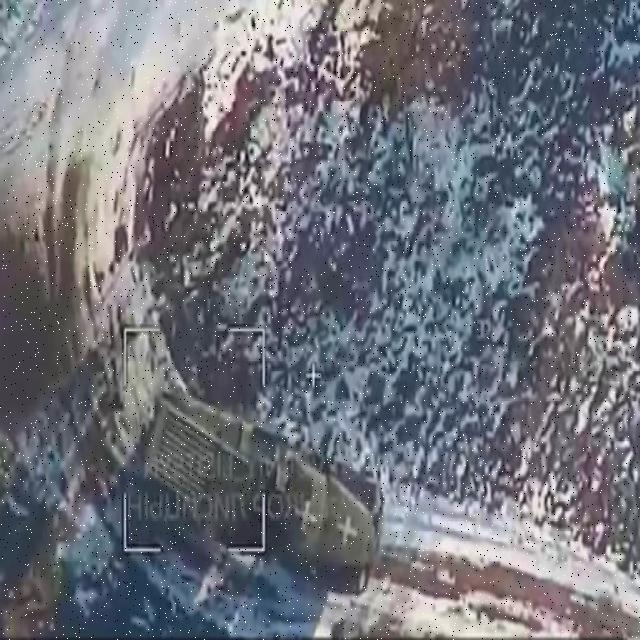MLRS: (140, 384, 385, 602)
